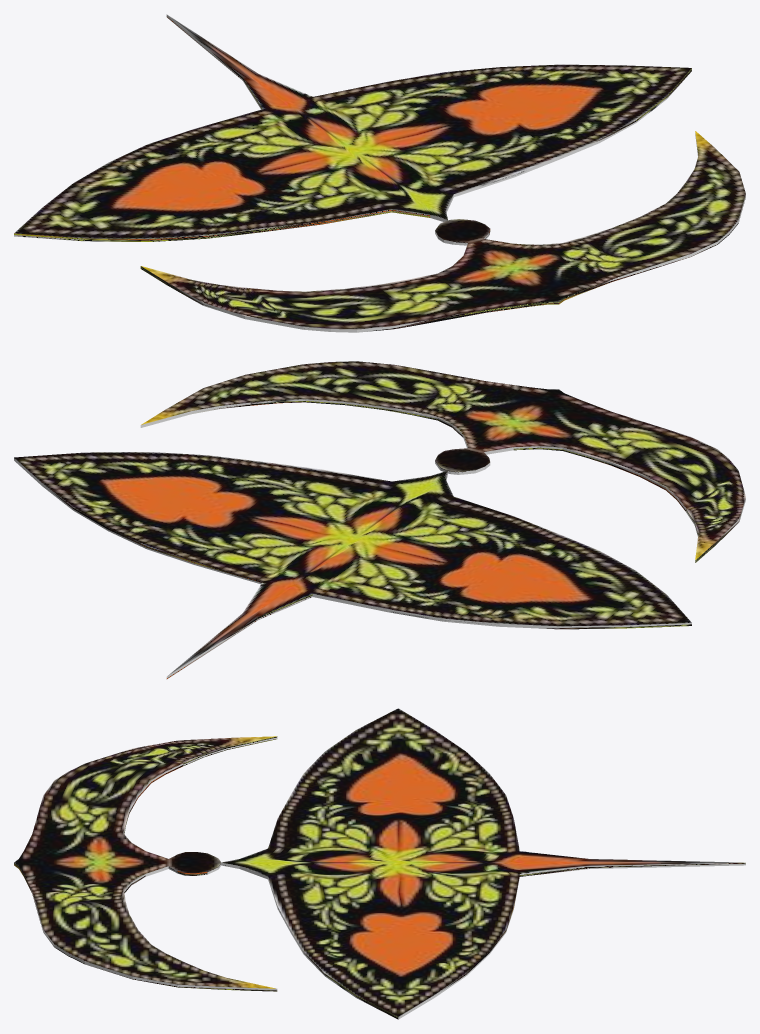
Rendered from wau bulan #1.fbx.
3 views of the same model, one above another, from view 1: azimuth 30°, elevation 25°; view 2: azimuth 150°, elevation 25°; view 3: azimuth 270°, elevation 25° (orthographic). The views are drawn at different scales.
Visible parts, largest first — view 1: Cube; view 2: Cube; view 3: Cube.
Part boxes in pixels (box(x1,y1,x2,y2)): Cube: box(14, 14, 745, 332); Cube: box(14, 361, 745, 679); Cube: box(14, 708, 745, 1019).
Bounding box in the file's own units: 4.6 × 4.58 × 0.02.
